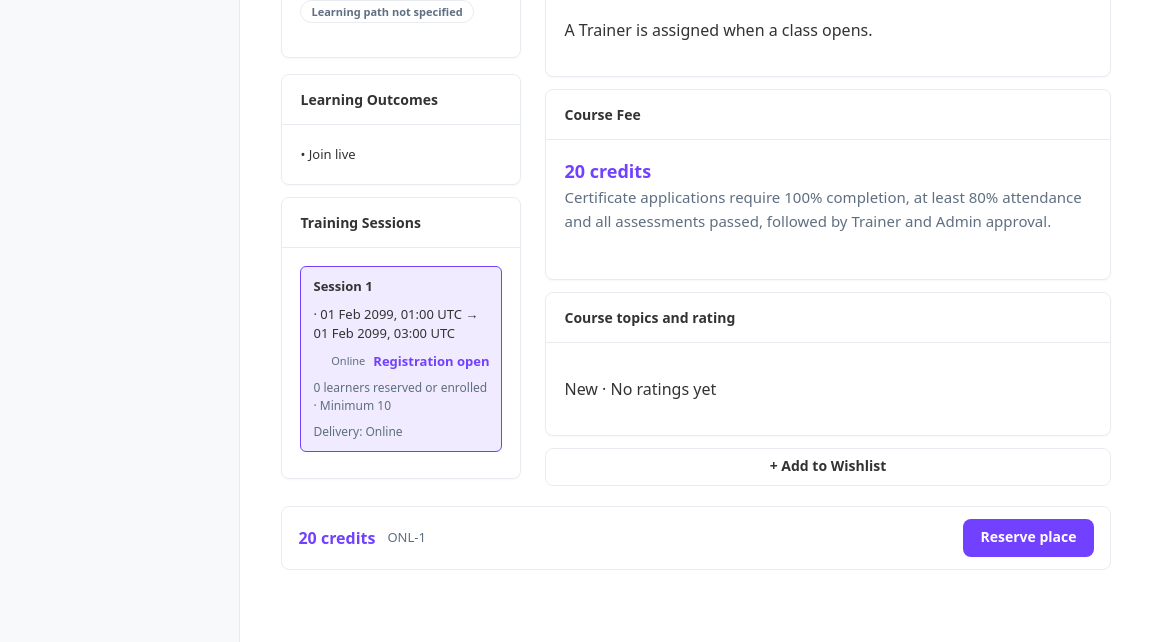
Member course enrolment › does not treat a default online session as full
(page scrolled)
Expected: the text "Online" is shown, [331,353,365,370]
Step 1. Click the button "Reserve place" → (1028, 538), box [964,519,1094,557]
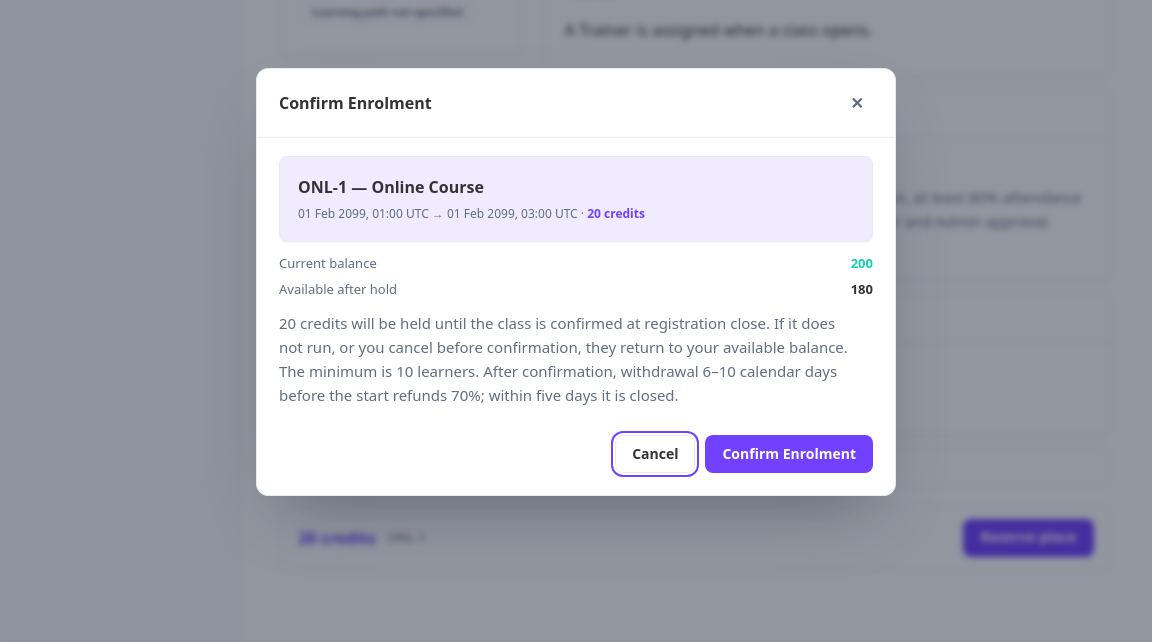
Expected: the button "Confirm Enrolment" is shown, [705,435,873,473]
